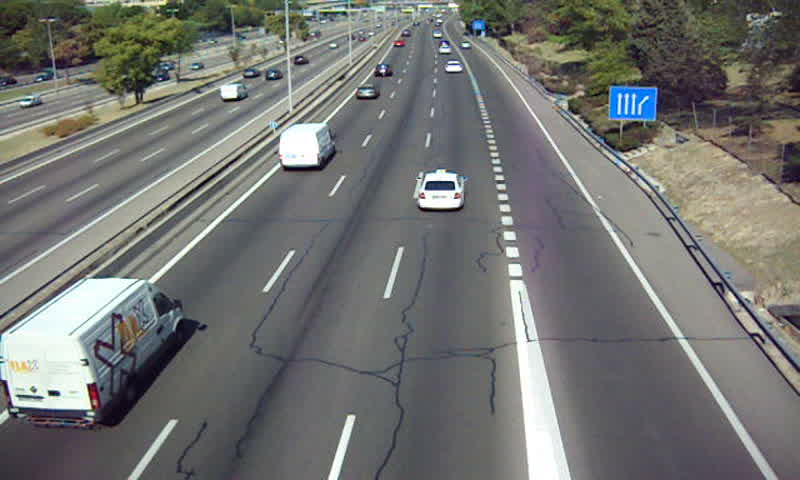car: (417, 172, 466, 209), (354, 84, 378, 102), (375, 62, 393, 79), (443, 60, 464, 74)
van: (1, 278, 184, 428), (278, 124, 335, 170)
